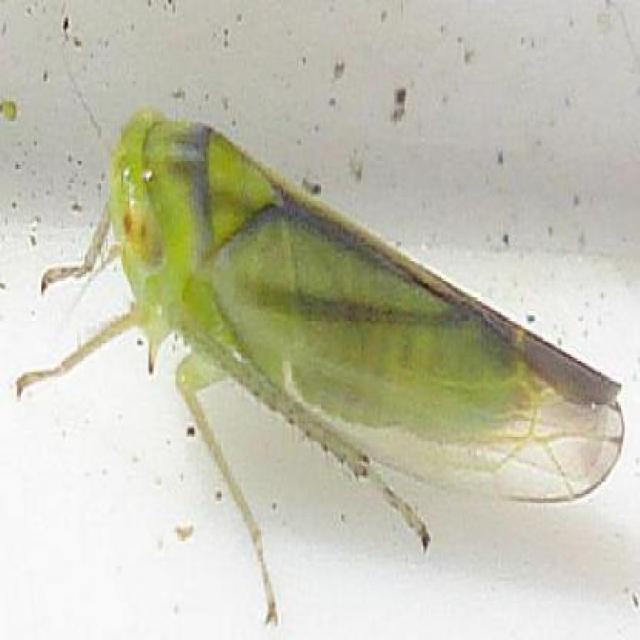green-leafhopper: (12, 106, 629, 627)
